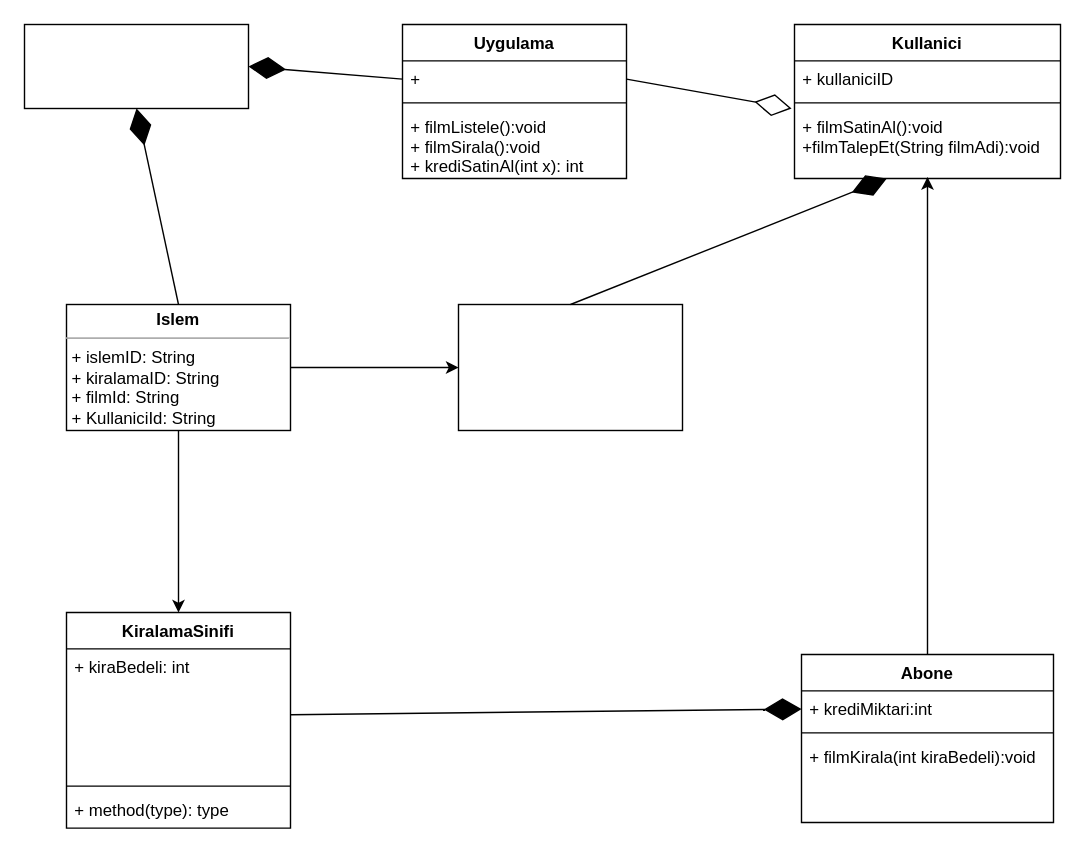
The diagram is 1085 pixels wide and 857 high, and some of its shapes have lost their labels. The centre of each missing label's shape, as x and y in pixels:
"Film + filmID" goes at (x=135, y=65).
"Satis + satisBedeli:int + method(): Type" goes at (x=569, y=366).
